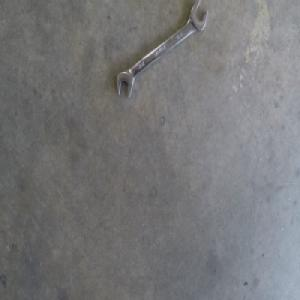Wrench: (116, 3, 208, 98)
